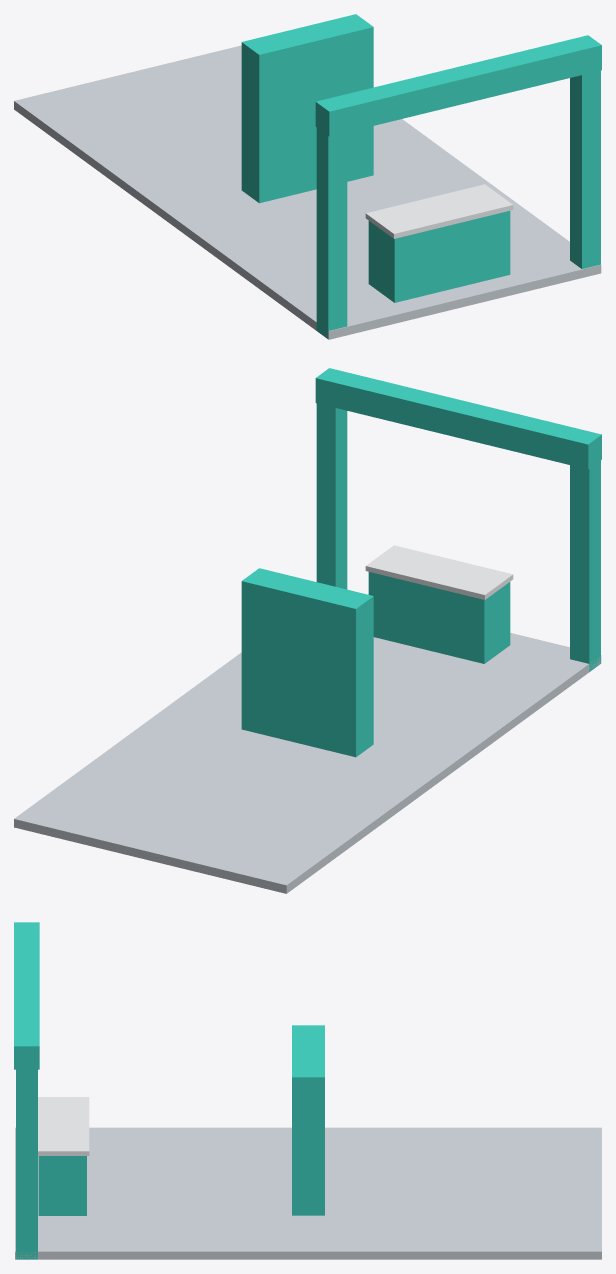
3 renders of one model, top to bottom at view 1: azimuth 30°, elevation 25°; view 2: azimuth 150°, elevation 25°; view 3: azimuth 270°, elevation 25°, orthographic. The views are drawn at different scales.
Visible parts, largest first — view 1: Exhibition Booth Concept; view 2: Exhibition Booth Concept; view 3: Exhibition Booth Concept.
Part boxes in pixels (<box>): Exhibition Booth Concept: <box>14,14,601,339</box>; Exhibition Booth Concept: <box>14,368,601,893</box>; Exhibition Booth Concept: <box>14,922,601,1259</box>.
Size of the model in its own units: 4 by 3.2 by 8.01.
